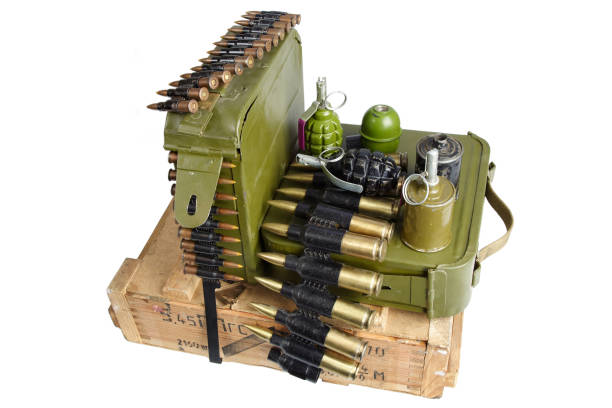e1: (404, 150, 457, 257), (298, 146, 404, 198), (296, 75, 343, 154)
